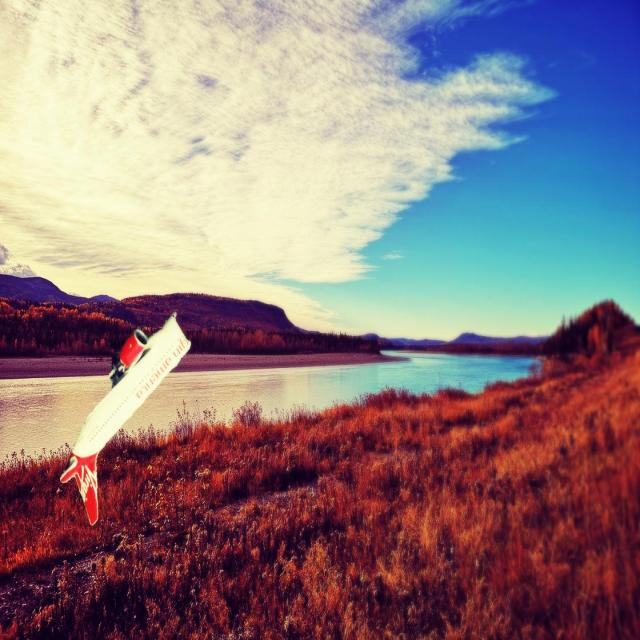airplane: (58, 310, 191, 526)
